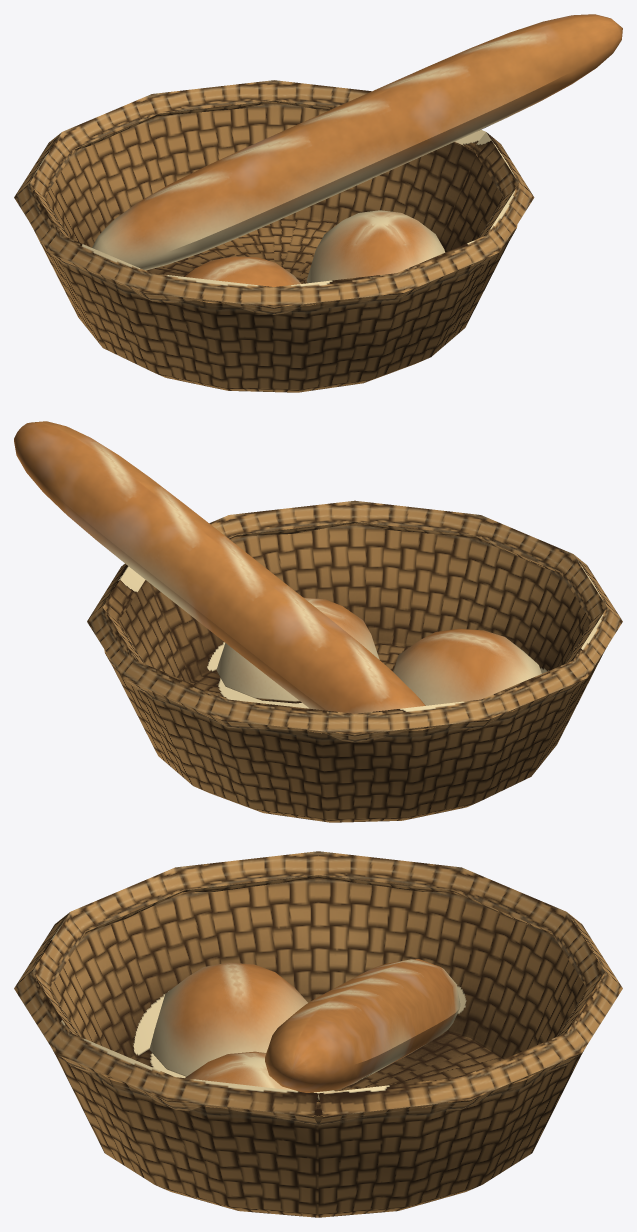
File: Bread_Basket_01.glb
3 renders of one model, top to bottom at view 1: azimuth 30°, elevation 25°; view 2: azimuth 150°, elevation 25°; view 3: azimuth 270°, elevation 25°, orthographic. The views are drawn at different scales.
Parts seen in each view (by area): view 1: Bread_Basket_01; view 2: Bread_Basket_01; view 3: Bread_Basket_01.
Part boxes in pixels (bbox=[...]): Bread_Basket_01: bbox=[14, 14, 622, 392]; Bread_Basket_01: bbox=[14, 421, 622, 822]; Bread_Basket_01: bbox=[14, 851, 622, 1217].
Size of the model in its own units: 0.4009 by 0.1579 by 0.321.
1 material, 1 textured.
